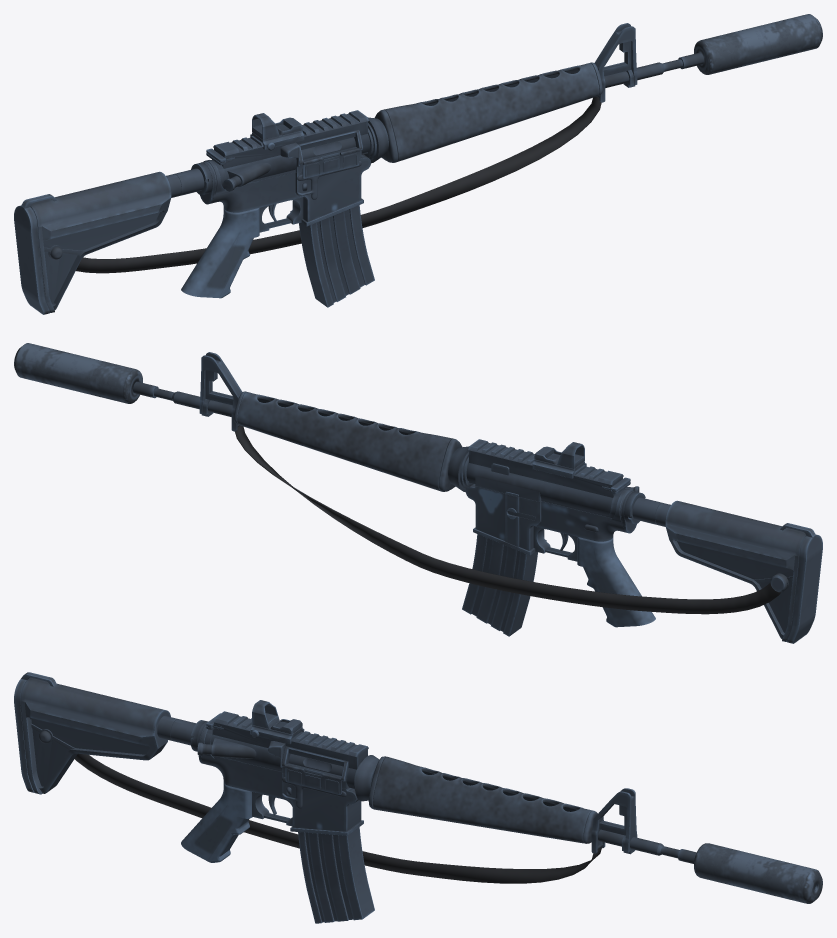
Rendered from Mid_Tapper.glb.
3 renders of one model, top to bottom at view 1: azimuth 30°, elevation 25°; view 2: azimuth 150°, elevation 25°; view 3: azimuth 330°, elevation 25°, orthographic.
Visible parts, largest first — view 1: Cube.040_BaseMetal_0, Cube.040_Stock_0, Cube.040_Grip_0, Cube.040_Clip_0, Cube.040_Silencer_0; view 2: Cube.040_BaseMetal_0, Cube.040_Stock_0, Cube.040_Grip_0, Cube.040_Silencer_0, Cube.040_Clip_0; view 3: Cube.040_BaseMetal_0, Cube.040_Stock_0, Cube.040_Grip_0, Cube.040_Clip_0, Cube.040_Silencer_0.
Part boxes in pixels (left/top/right/bottom): Cube.040_BaseMetal_0: left=166, top=23, right=703, bottom=232; Cube.040_Stock_0: left=14, top=96, right=601, bottom=314; Cube.040_Grip_0: left=181, top=62, right=602, bottom=298; Cube.040_Clip_0: left=299, top=205, right=374, bottom=307; Cube.040_Silencer_0: left=694, top=14, right=822, bottom=74; Cube.040_BaseMetal_0: left=133, top=352, right=670, bottom=561; Cube.040_Stock_0: left=235, top=425, right=822, bottom=643; Cube.040_Grip_0: left=234, top=391, right=655, bottom=627; Cube.040_Silencer_0: left=14, top=343, right=142, bottom=403; Cube.040_Clip_0: left=462, top=515, right=537, bottom=636; Cube.040_BaseMetal_0: left=157, top=700, right=696, bottom=863; Cube.040_Stock_0: left=14, top=672, right=601, bottom=883; Cube.040_Grip_0: left=181, top=756, right=597, bottom=862; Cube.040_Clip_0: left=298, top=827, right=374, bottom=923; Cube.040_Silencer_0: left=694, top=843, right=822, bottom=903.
Size of the model in its own units: 14.92 by 3.64 by 1.03.
Materials: 5 (5 with a texture image).
